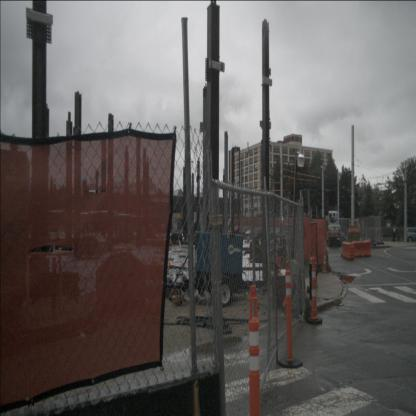barrier: (352, 241, 371, 257), (342, 242, 354, 260)
cone: (278, 260, 303, 368), (248, 284, 261, 416), (306, 245, 322, 324), (321, 252, 329, 274), (379, 227, 384, 244)
